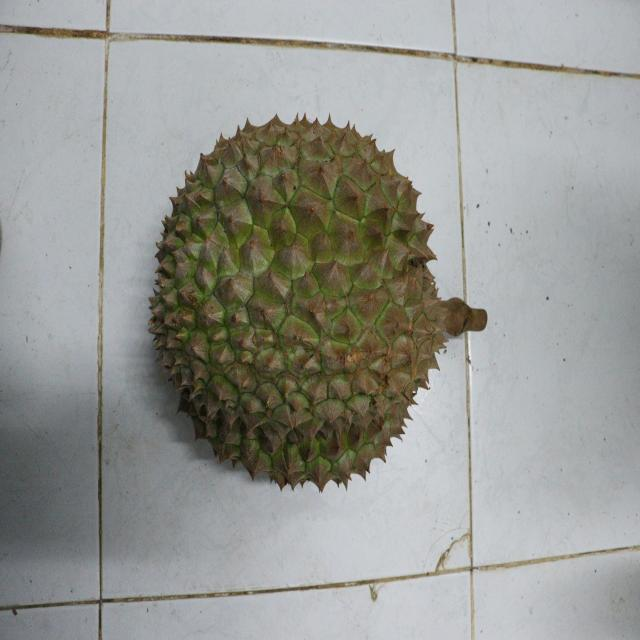mature: (146, 112, 442, 491)
